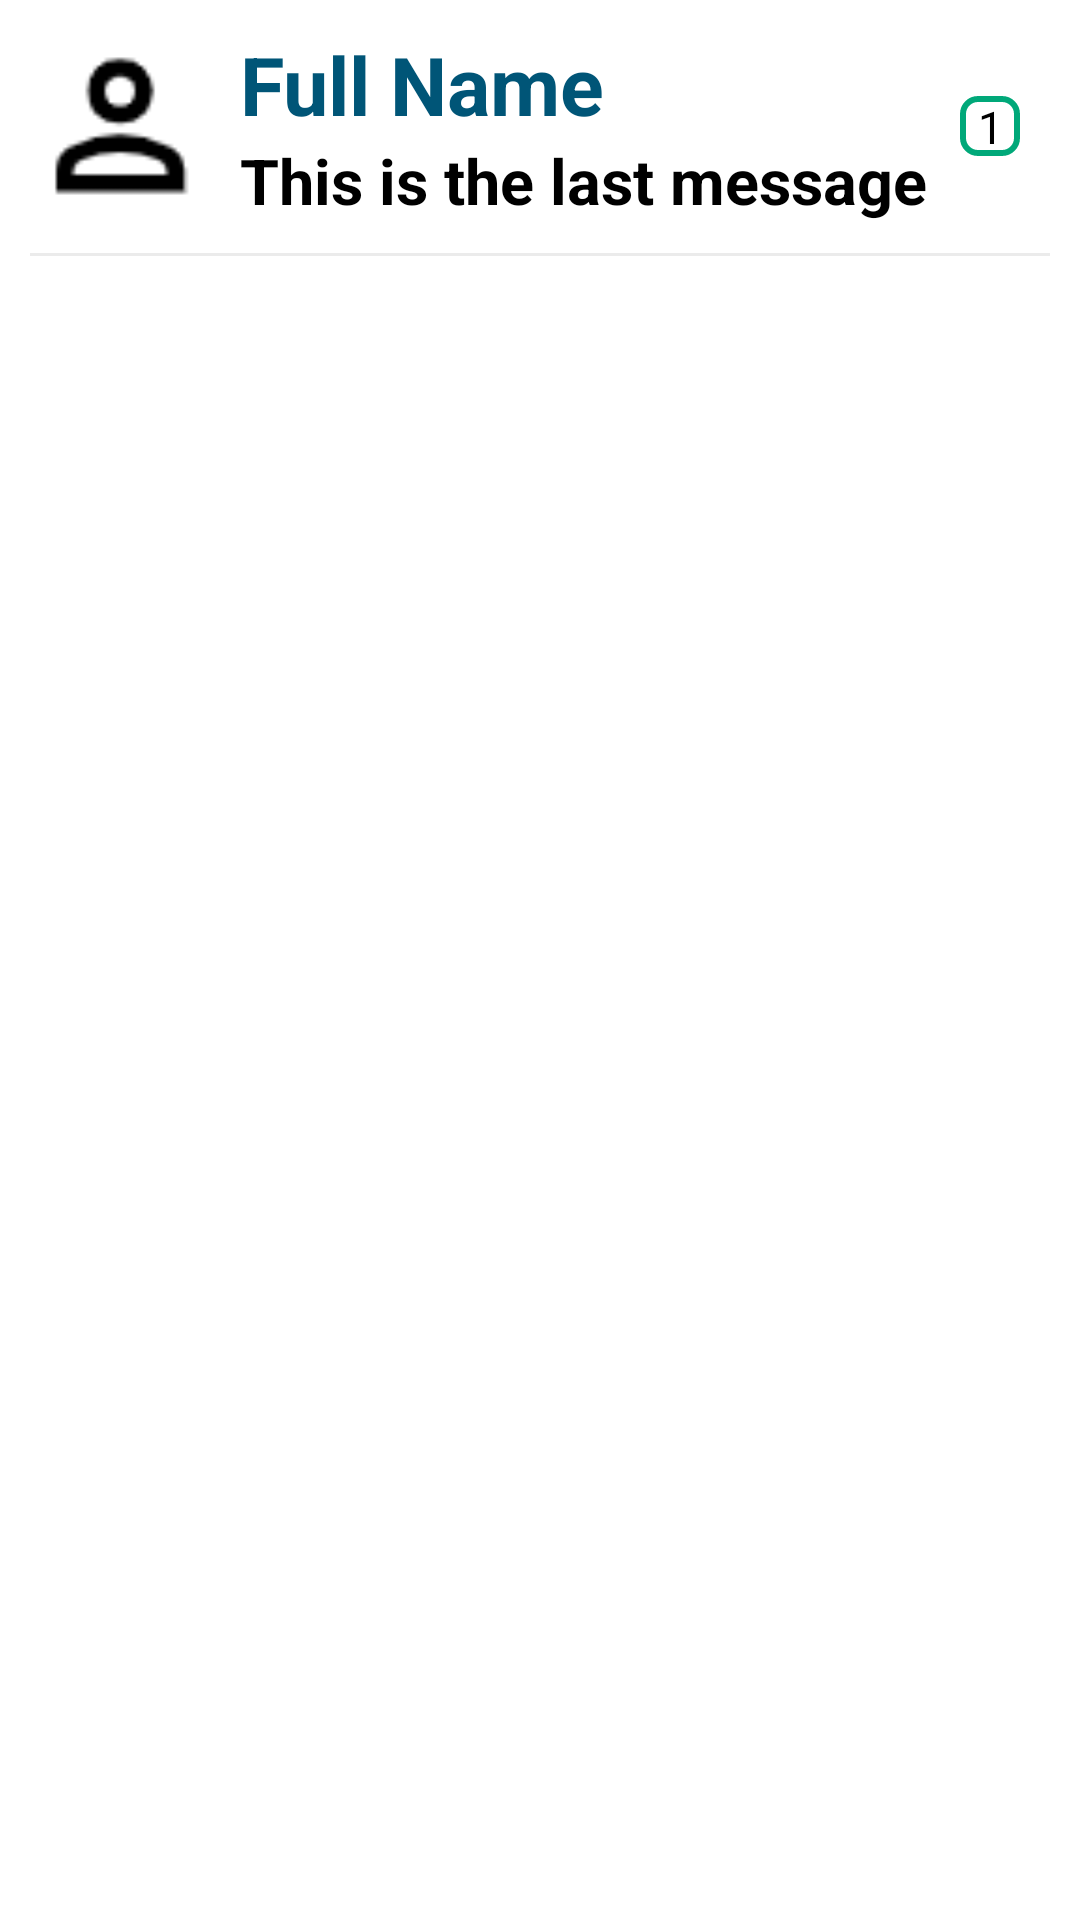

Where to tap for icons on this 1080w x 1920h app screen, as point (x, y):
user: point (121, 126)
